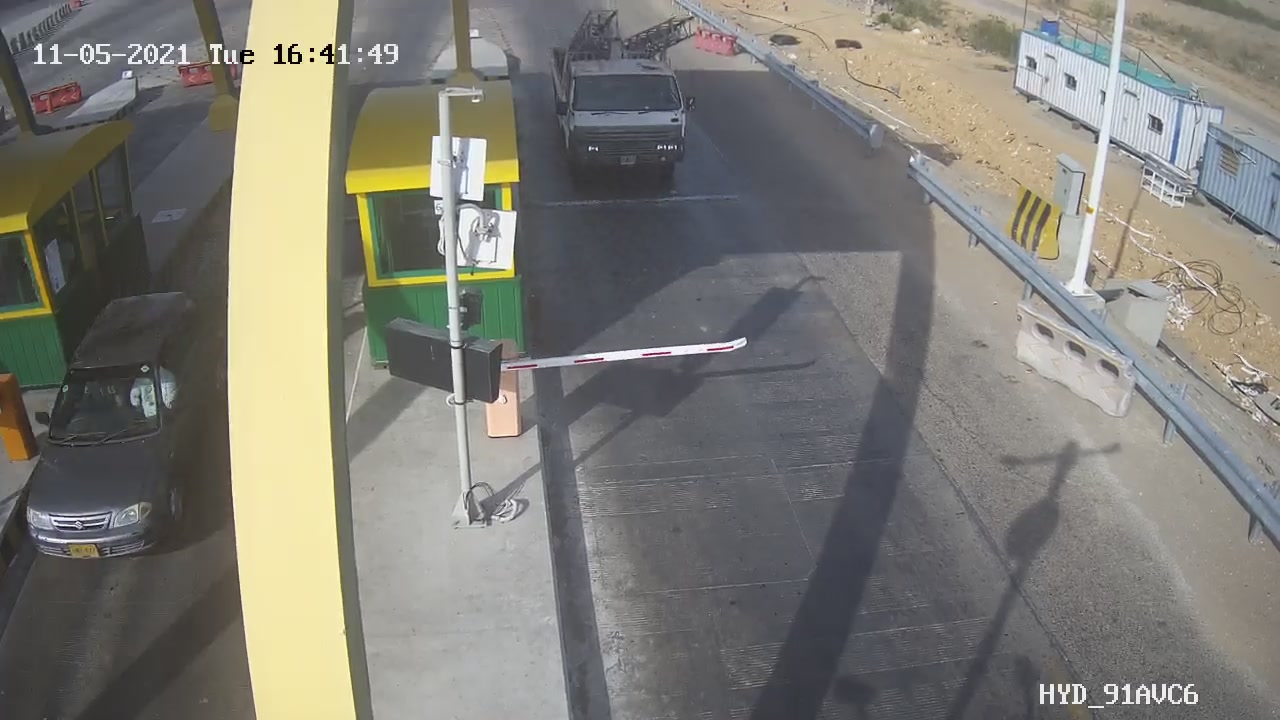F3: (539, 4, 713, 195)
